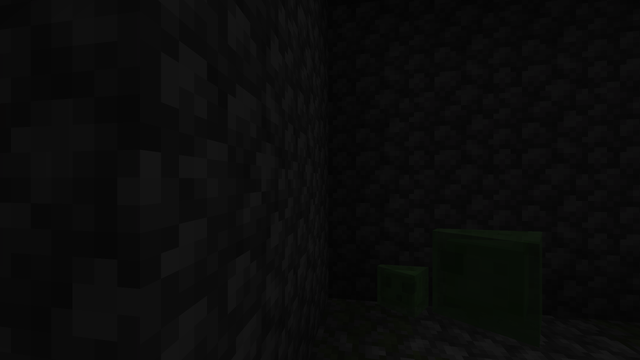slimes: (443, 222, 568, 340), (382, 260, 429, 316)
